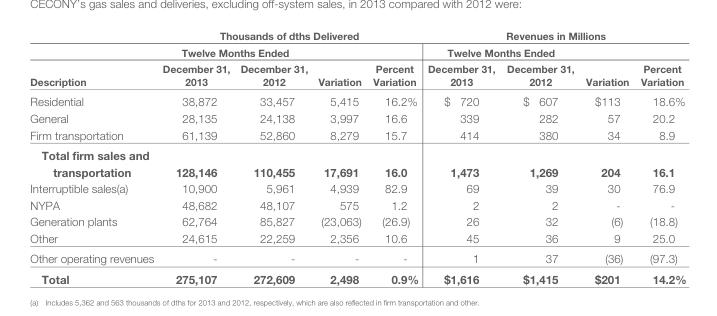table: (29, 28, 685, 285)
table column: (29, 28, 157, 285), (500, 28, 579, 285), (234, 28, 312, 285), (422, 28, 500, 285), (157, 28, 234, 285), (366, 28, 422, 285), (579, 28, 634, 285), (312, 28, 366, 285), (634, 28, 685, 285)
table column header: (29, 28, 685, 90)
table row: (29, 144, 685, 179), (29, 59, 685, 90), (29, 247, 685, 268), (29, 90, 685, 109), (29, 125, 685, 144), (29, 229, 685, 247), (29, 179, 685, 196), (29, 212, 685, 229), (29, 268, 685, 285), (29, 43, 685, 59), (29, 109, 685, 125), (29, 196, 685, 212), (29, 28, 685, 43)
table spanning cell: (29, 28, 157, 90), (157, 28, 422, 43), (422, 28, 685, 43), (366, 43, 422, 90), (579, 43, 634, 90), (312, 43, 366, 90), (422, 43, 579, 59), (157, 43, 312, 59), (634, 43, 685, 90)
